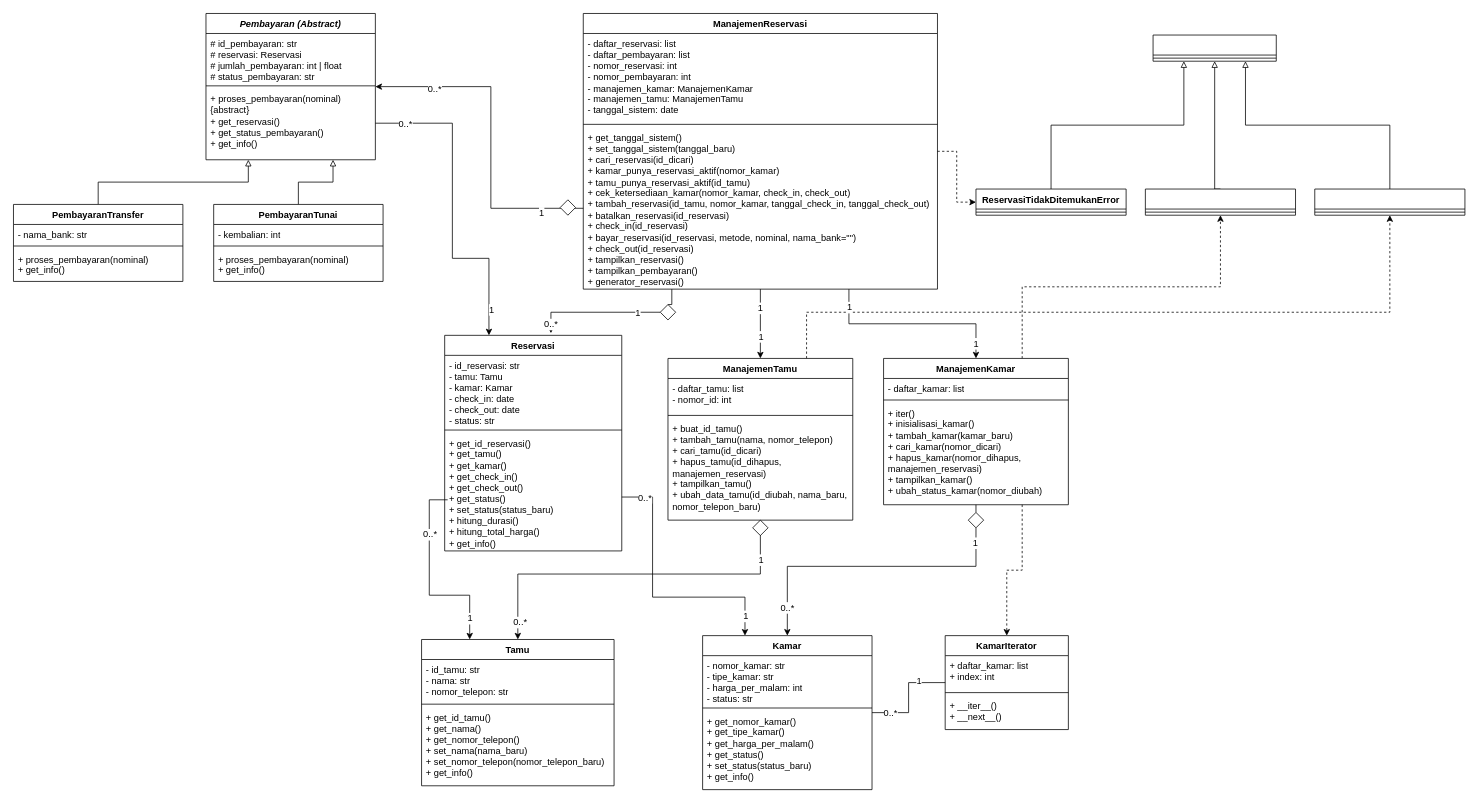
Some shapes in this 1478 by 805 pixel diagram are drawn without their labels. Each missing label, with the centre of its shape:
Exception: the point at 1214,47
KamarTidakDitemukanError: the point at 1220,201
TamuTidakDitemukanError: the point at 1389,201
